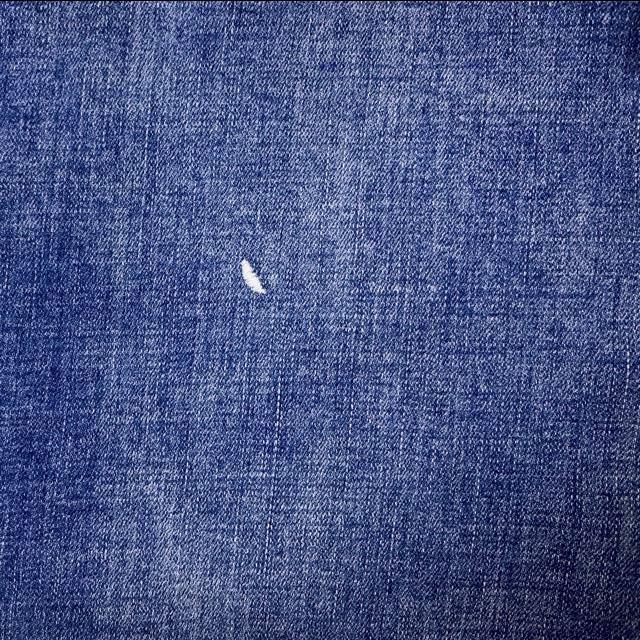Knot: (241, 257, 266, 293)
